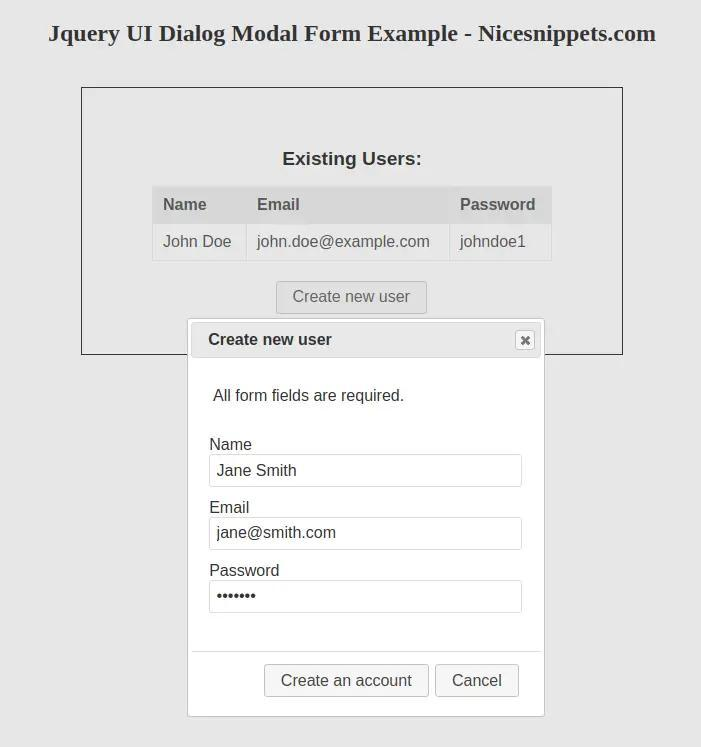button: (264, 664, 428, 701), (278, 281, 428, 317), (437, 664, 519, 701)
input: (211, 516, 523, 554), (210, 455, 522, 488), (212, 582, 522, 615)
label: (209, 561, 281, 578), (209, 498, 252, 516), (208, 438, 255, 452)
table: (154, 183, 555, 264)
